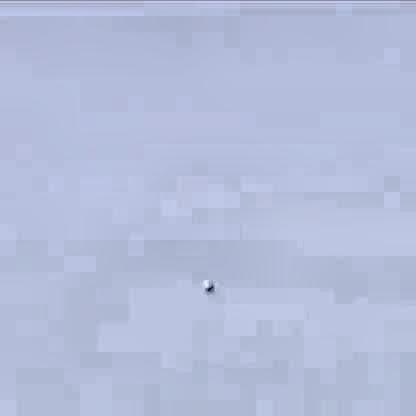golfball: (199, 278, 215, 291)
